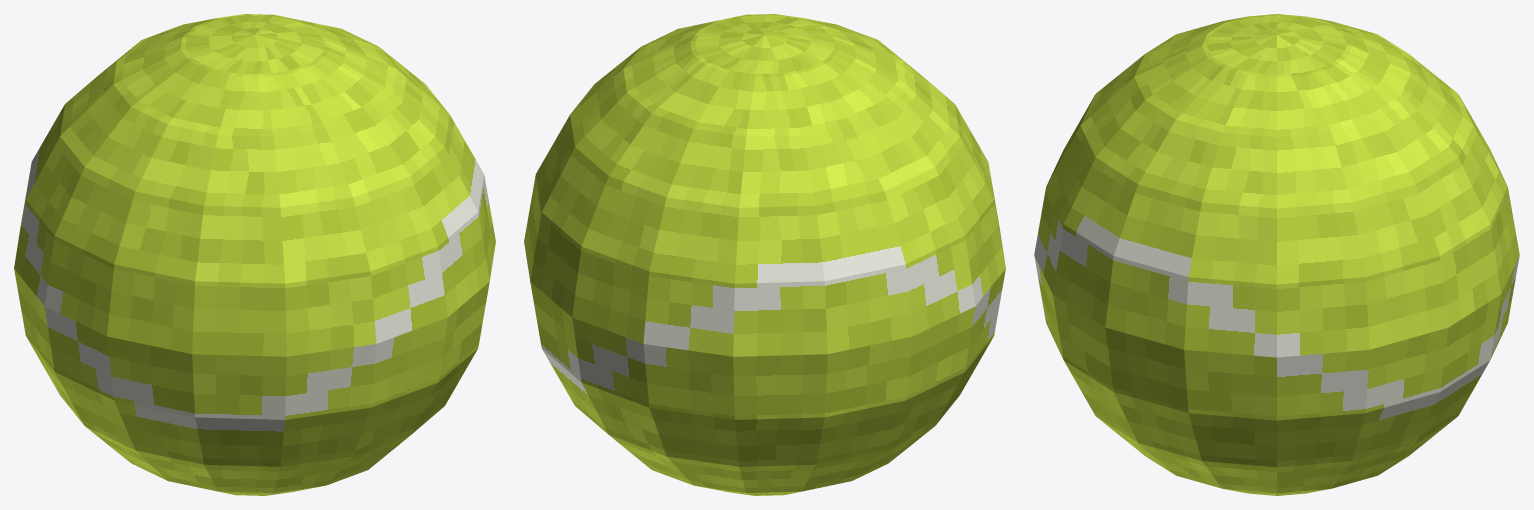
Rendered from ball.obj.
3 views of the same model, side by side, from view 1: azimuth 30°, elevation 25°; view 2: azimuth 150°, elevation 25°; view 3: azimuth 270°, elevation 25° (orthographic).
Bounding box in the file's own units: 0.13 × 0.13 × 0.13.
Materials: 1 (1 with a texture image).
